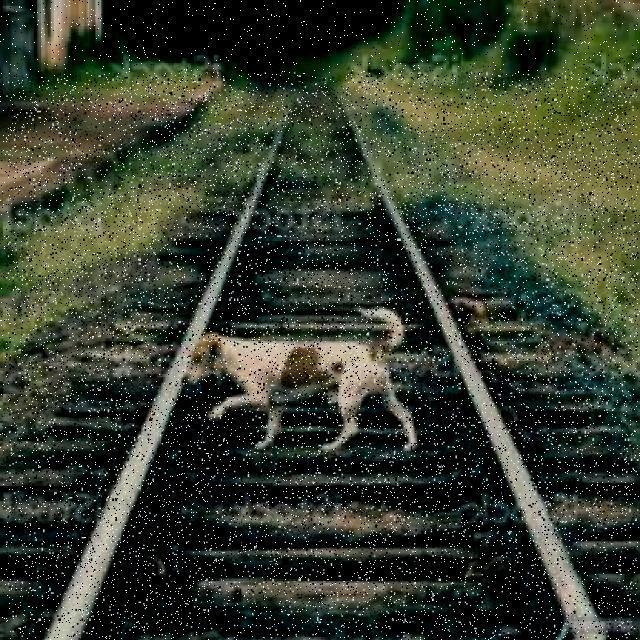danger: (185, 331, 432, 454)
rail: (6, 73, 638, 640)
